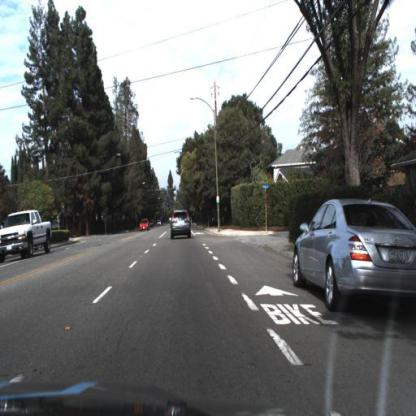car: (292, 196, 416, 312), (1, 210, 55, 263), (171, 209, 192, 240), (140, 219, 151, 233)
